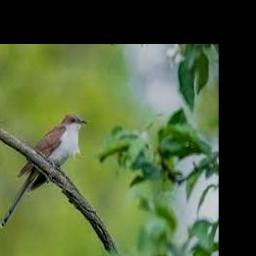Cuckoo: (0, 114, 87, 228)
